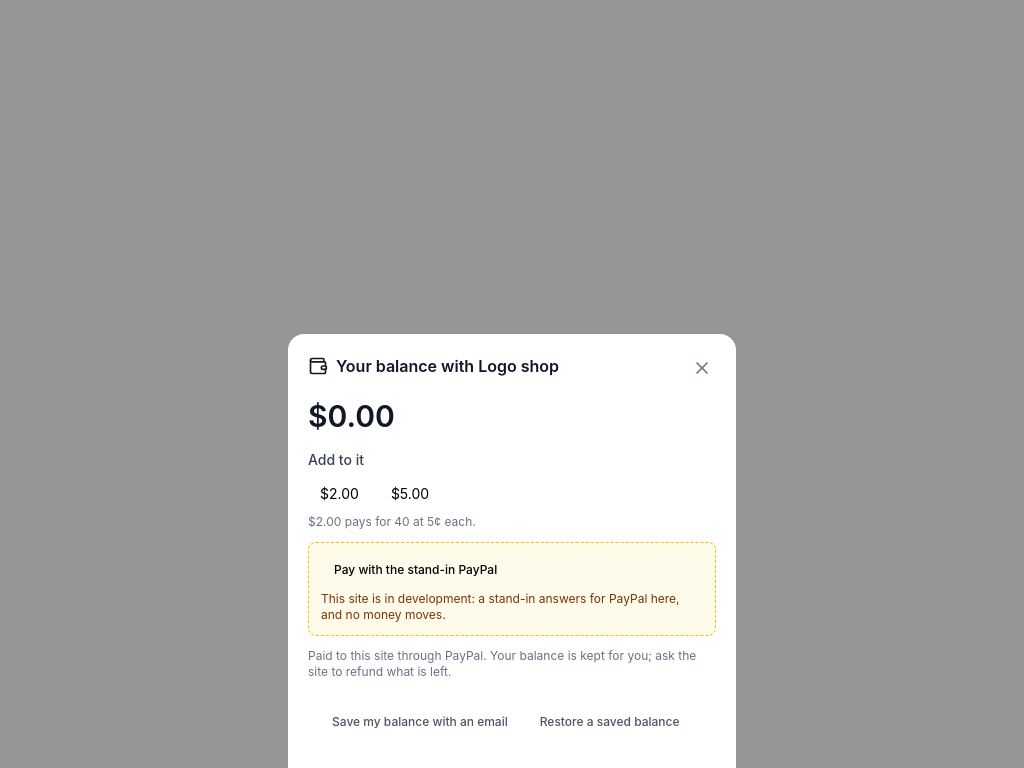
Test case: says so when the stand-in does not answer, and captures nothing
Click the button "Pay with the stand-in PayPal". click: point(416, 570)
box: [321, 555, 510, 585]
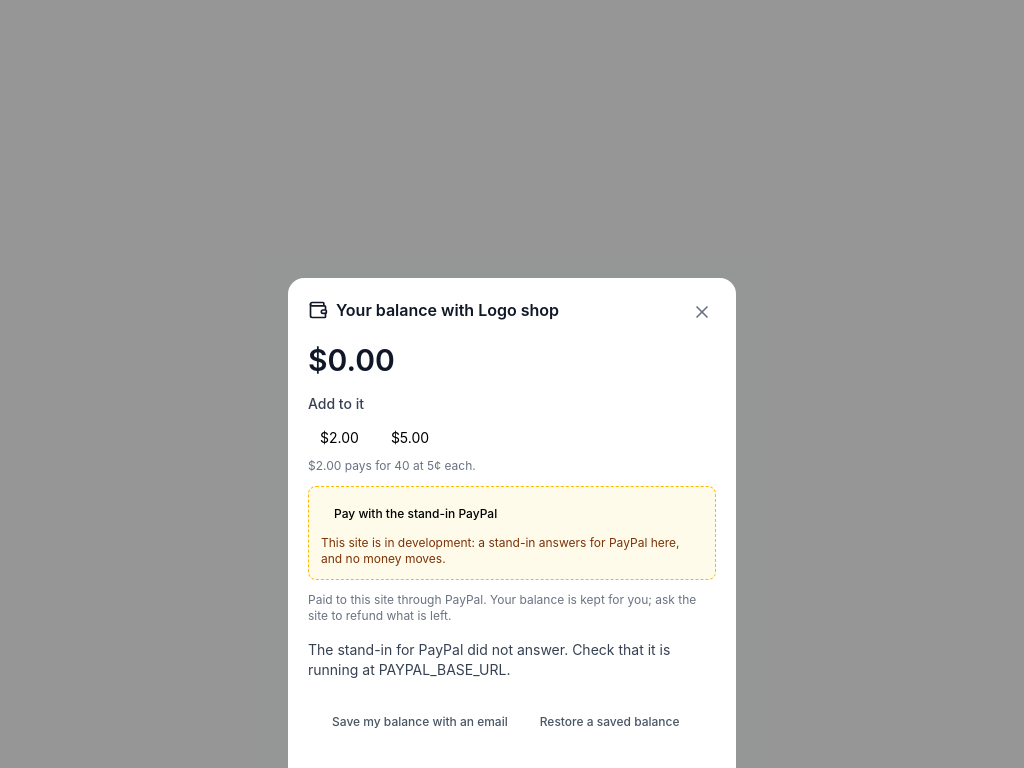
Expected: the button "Pay with the stand-in PayPal" is enabled, [321, 499, 510, 529]
Expected: the text "The stand-in for PayPal did not answer." is shown, [308, 641, 670, 678]
